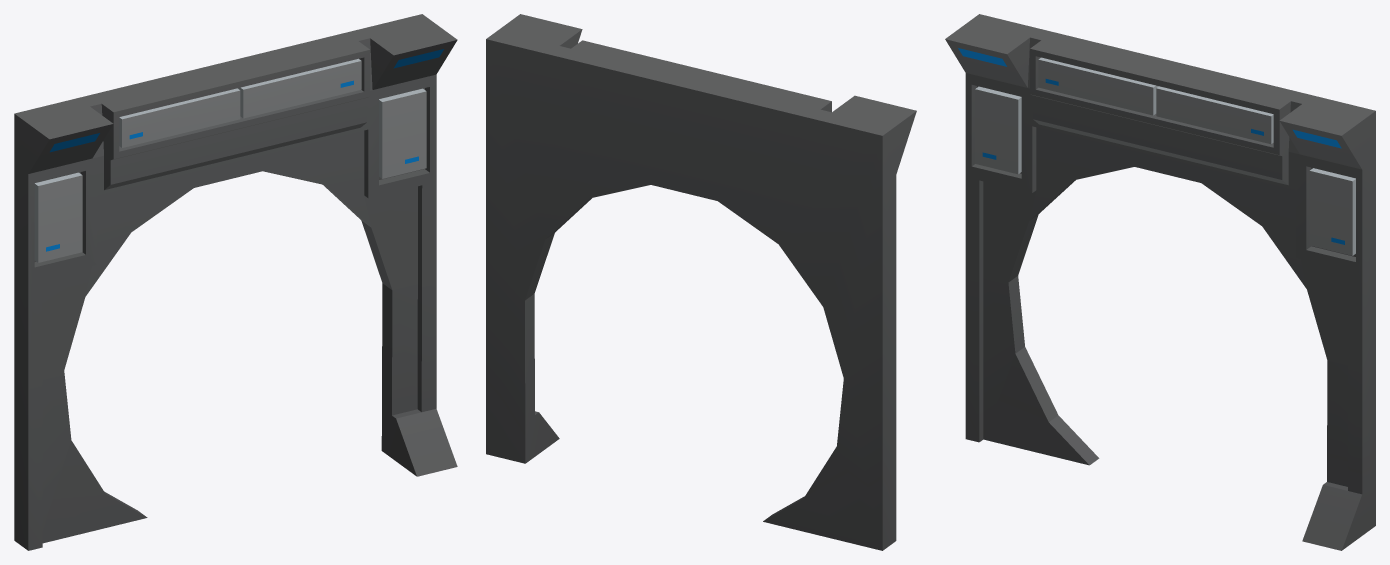
File: Wall_type_B_066.fbx
3 views of the same model, side by side, from view 1: azimuth 30°, elevation 25°; view 2: azimuth 150°, elevation 25°; view 3: azimuth 330°, elevation 25° (orthographic). The views are drawn at different scales.
Visible parts, largest first — view 1: Wall_type_B_066; view 2: Wall_type_B_066; view 3: Wall_type_B_066.
Boxes of the visible parts, x1,y1,x2,y2 form: Wall_type_B_066: [14, 14, 457, 550]; Wall_type_B_066: [486, 14, 916, 550]; Wall_type_B_066: [945, 14, 1375, 550].
Bounding box in the file's own units: 400 × 60 × 400.
